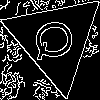Q: (30, 15, 84, 63)
